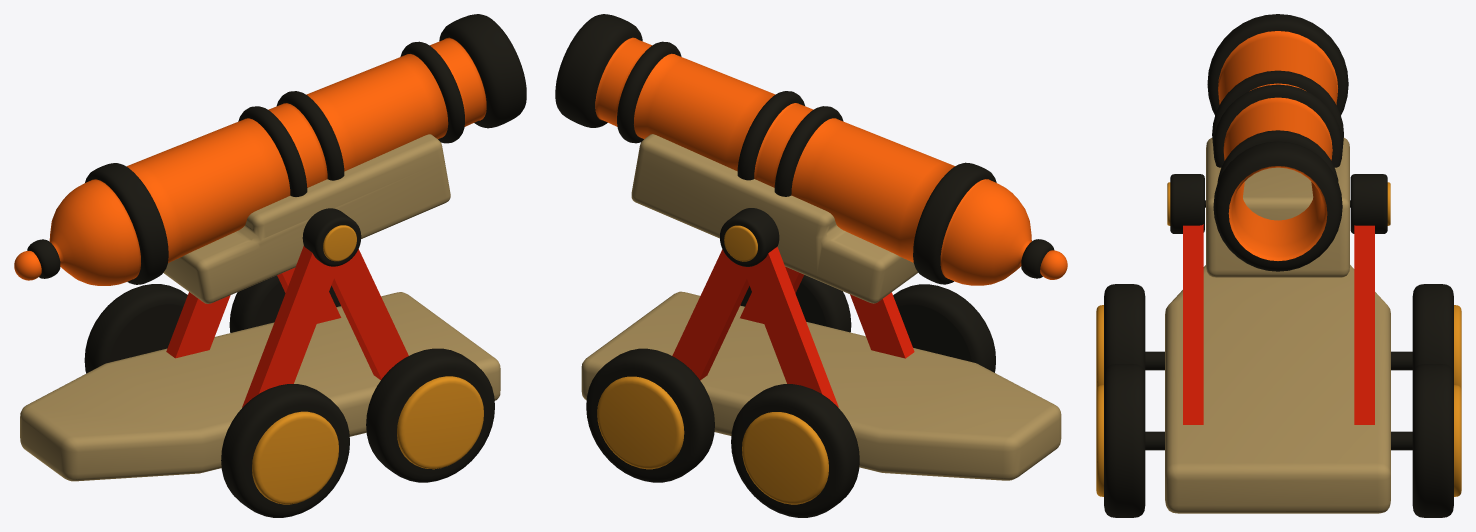
3 views of the same model, side by side, from view 1: azimuth 30°, elevation 25°; view 2: azimuth 150°, elevation 25°; view 3: azimuth 270°, elevation 25° (orthographic). The views are drawn at different scales.
Parts seen in each view (by area): view 1: Cylinder021, Box004, Box003, Group024, Cylinder023, Cylinder022, Group025, Group026, Cylinder025, Line009, Line010, Line011 (+5 smaller); view 2: Cylinder021, Box004, Box003, Group024, Cylinder026, Cylinder025, Group029, Group028, Line011, Cylinder022, Line012, Line009 (+5 smaller); view 3: Box004, Group024, Cylinder021, Box003, Cylinder026, Cylinder023, Line010, Line012, Cylinder025, Cylinder022, Cylinder027, Cylinder024 (+4 smaller).
Boxes of the visible parts, x1,y1,x2,y2 form: Cylinder021: [49, 37, 486, 285]; Box004: [20, 292, 500, 481]; Box003: [163, 134, 450, 303]; Group024: [27, 14, 526, 284]; Cylinder023: [366, 348, 494, 482]; Cylinder022: [221, 384, 349, 517]; Group025: [252, 411, 338, 504]; Group026: [397, 376, 483, 469]; Cylinder025: [84, 284, 187, 373]; Line009: [242, 246, 337, 407]; Line010: [328, 249, 408, 379]; Line011: [166, 292, 230, 358]; Cylinder021: [595, 37, 1031, 285]; Box004: [581, 291, 1061, 480]; Box003: [631, 134, 918, 303]; Group024: [555, 14, 1054, 284]; Cylinder026: [586, 348, 714, 482]; Cylinder025: [731, 384, 859, 517]; Group029: [597, 376, 684, 469]; Group028: [742, 412, 828, 504]; Line011: [742, 246, 838, 407]; Cylinder022: [893, 284, 995, 372]; Line012: [672, 249, 749, 380]; Line009: [850, 292, 914, 358]; Box004: [1165, 265, 1390, 513]; Group024: [1207, 14, 1348, 271]; Cylinder021: [1218, 31, 1337, 260]; Box003: [1206, 138, 1349, 277]; Cylinder026: [1391, 364, 1453, 517]; Cylinder023: [1104, 364, 1164, 517]; Line010: [1183, 224, 1203, 424]; Line012: [1354, 225, 1374, 424]; Cylinder025: [1391, 284, 1453, 375]; Cylinder022: [1104, 284, 1164, 375]; Cylinder027: [1350, 174, 1387, 233]; Cylinder024: [1170, 174, 1205, 233].
Size of the model in its own units: 62.65 by 46.06 by 35.54.
